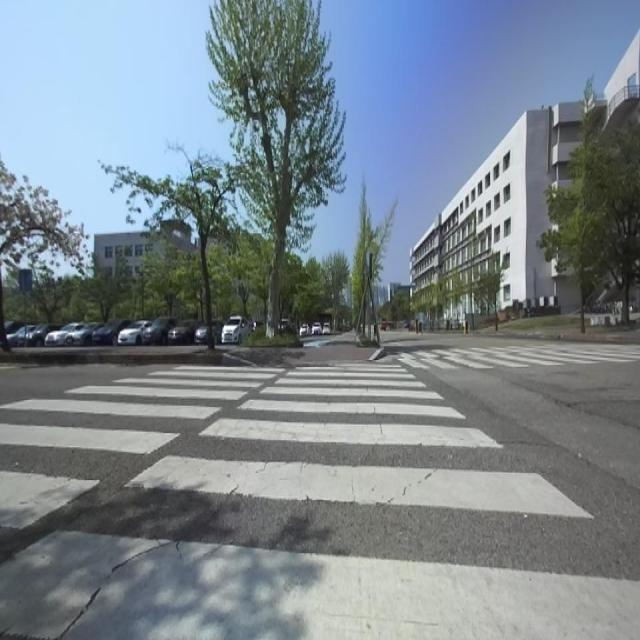sidewalk: (240, 332, 377, 369)
